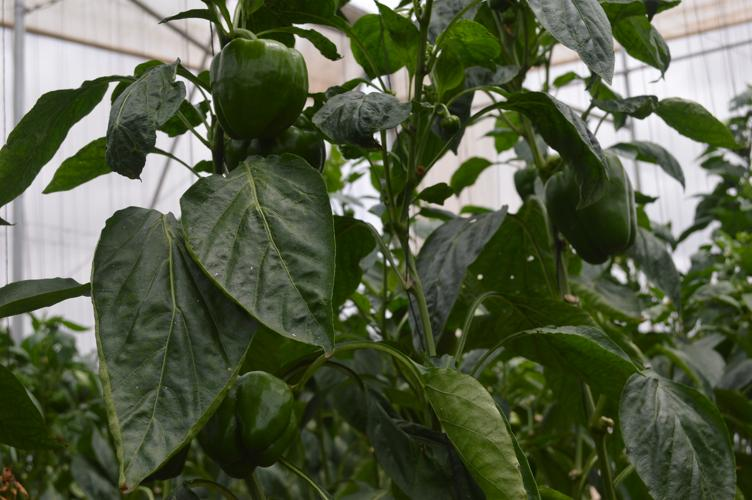BellPepper: (536, 154, 635, 262), (191, 374, 297, 465), (206, 38, 307, 131), (223, 124, 317, 168)
